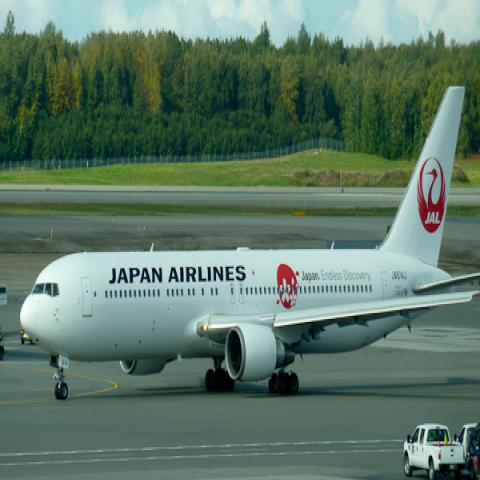car: (464, 420, 479, 478)
truck: (404, 424, 465, 478), (451, 424, 479, 478)
